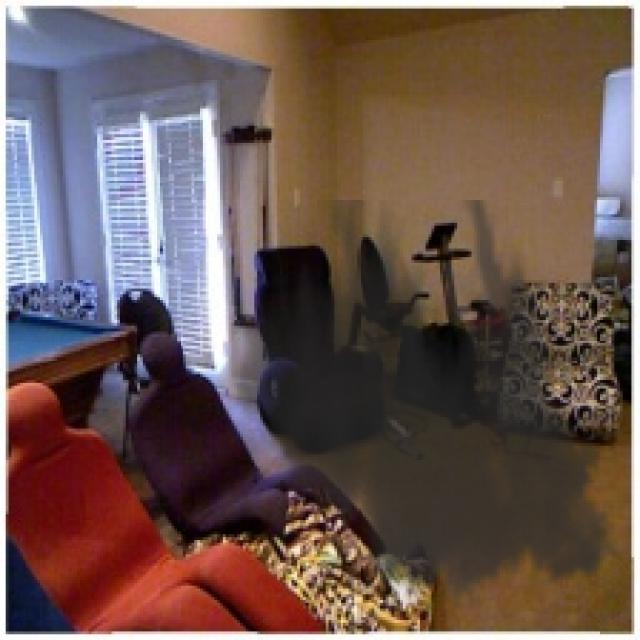smoke: (220, 200, 631, 620)
